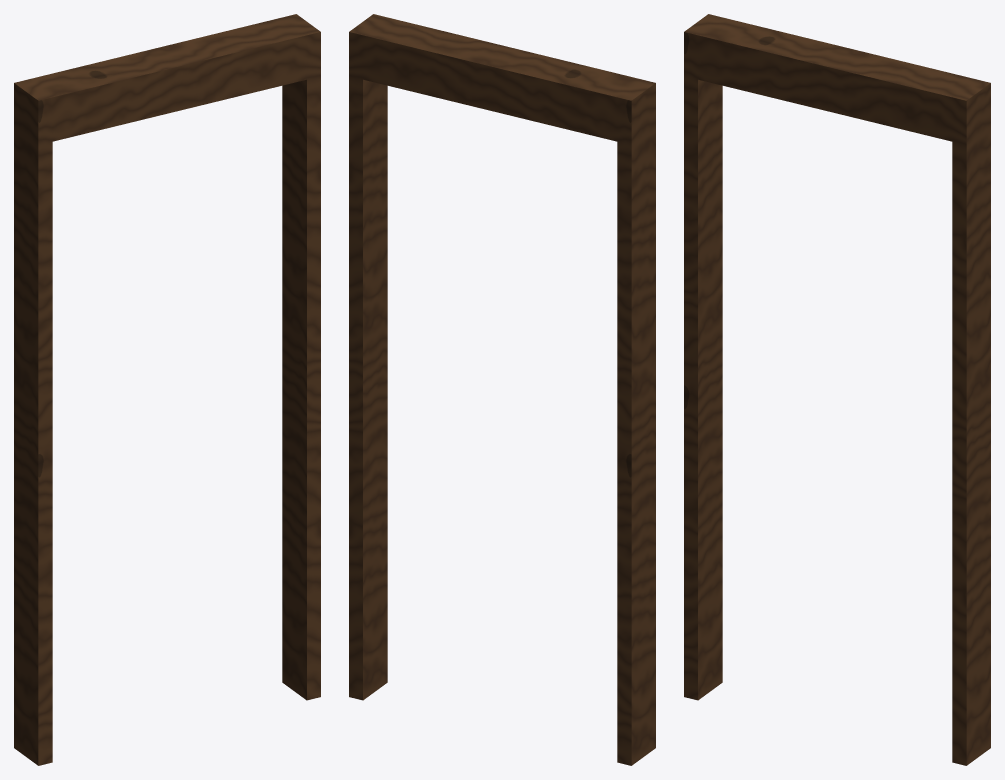
The model's file is door_frame_standard.glb.
The picture shows the model from 3 angles, left to right: view 1: azimuth 30°, elevation 25°; view 2: azimuth 150°, elevation 25°; view 3: azimuth 330°, elevation 25°; orthographic projection.
Parts seen in each view (by area): view 1: jamb_l, jamb_r, lintel; view 2: jamb_l, jamb_r, lintel; view 3: jamb_r, jamb_l, lintel.
Part boxes in pixels (x1,y1,x2,y2): jamb_l: (14,127,52,765); jamb_r: (282,76,320,700); lintel: (14,14,320,144); jamb_l: (617,127,655,765); jamb_r: (349,76,387,700); lintel: (349,14,655,144); jamb_r: (952,127,990,765); jamb_l: (684,76,722,700); lintel: (684,14,990,144).
Bounding box in the file's own units: 1 × 2.25 × 0.15.
1 material, 1 textured.
